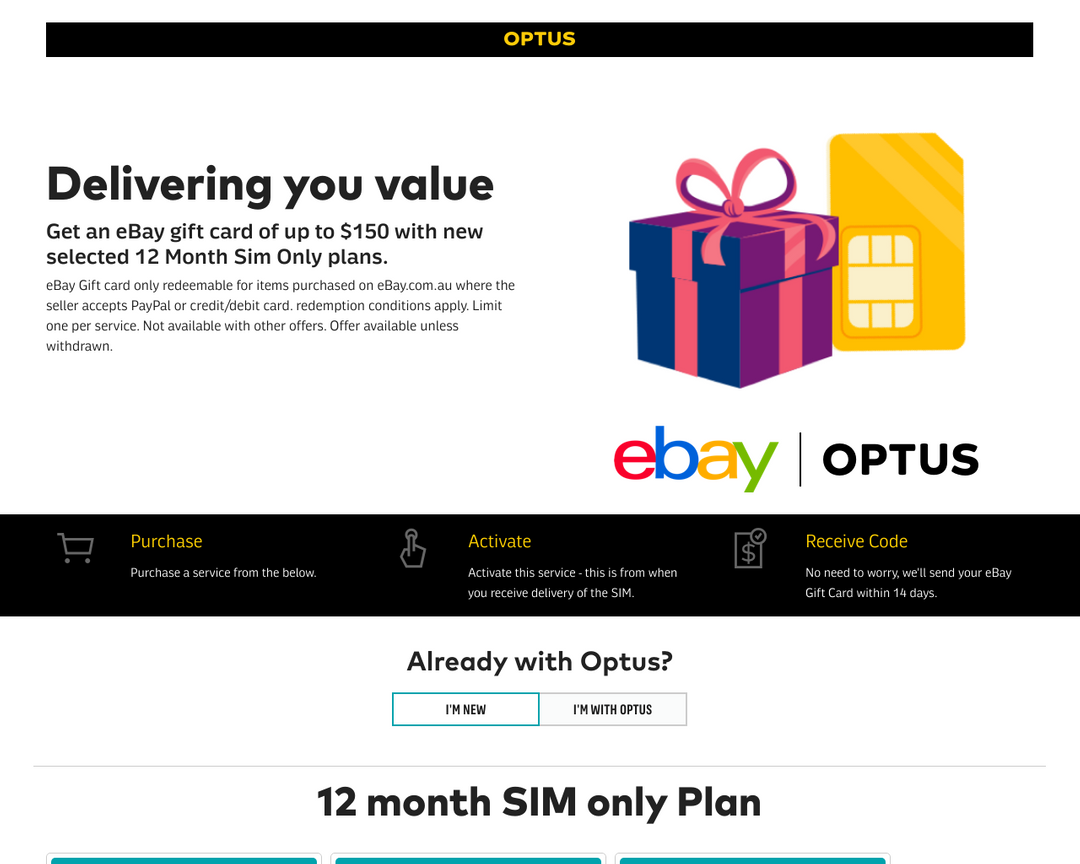Ebay: (603, 421, 786, 496)
